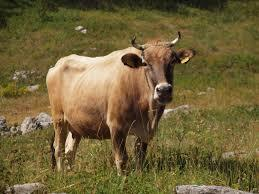cow: (46, 42, 196, 179)
